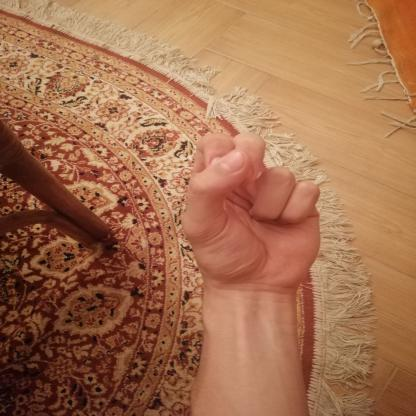QAAF: (167, 118, 337, 302)
